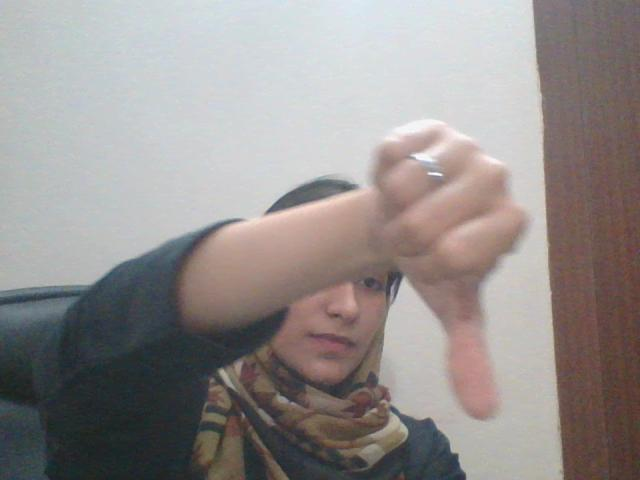thumbs-down: (373, 114, 537, 420)
